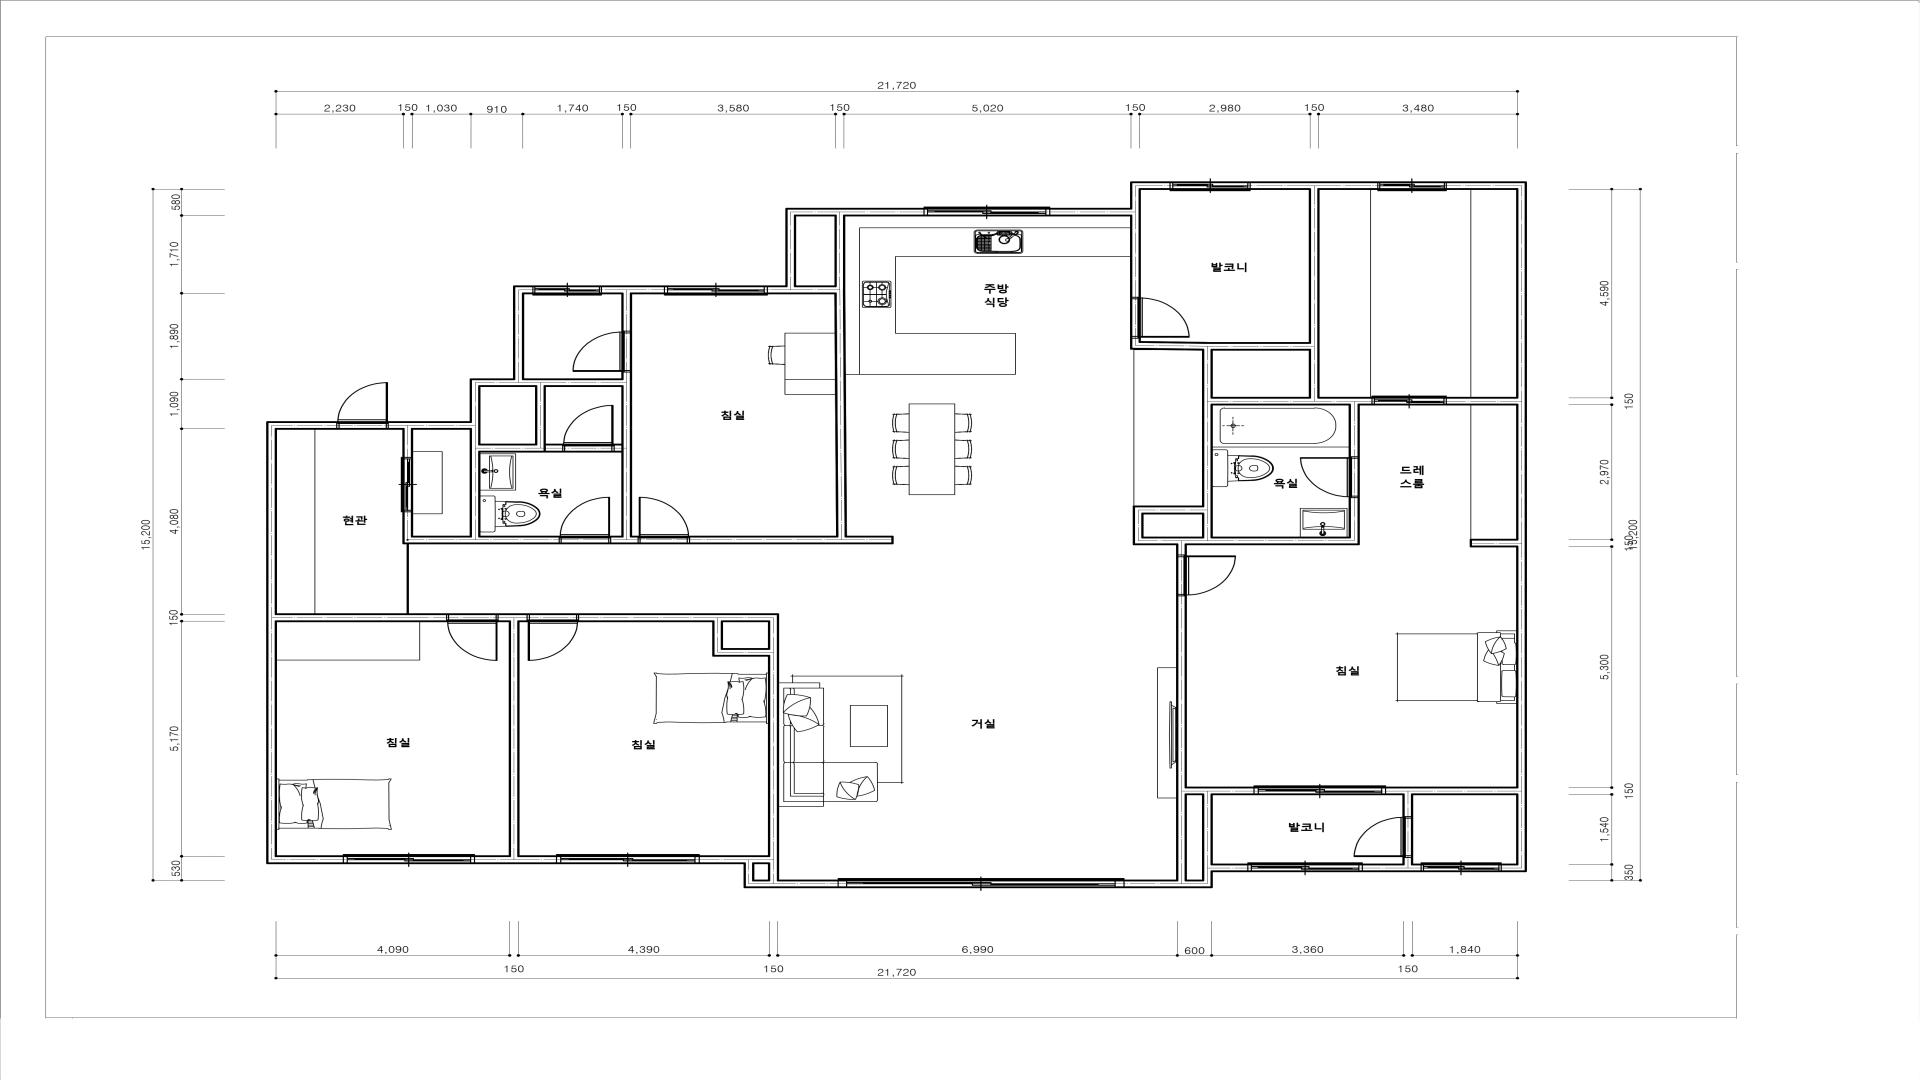door: (1353, 816, 1414, 857), (336, 382, 388, 430), (559, 497, 611, 545), (638, 497, 690, 545), (572, 331, 632, 372), (1130, 297, 1189, 338), (1176, 555, 1236, 596), (563, 405, 613, 452), (447, 613, 497, 661), (527, 613, 578, 661), (1300, 458, 1360, 497), (1373, 396, 1445, 405), (401, 458, 413, 512)
wall: (1516, 190, 1527, 864), (266, 430, 277, 856), (835, 216, 847, 535), (767, 622, 779, 880), (1176, 595, 1187, 880), (509, 622, 520, 856), (1308, 190, 1320, 397), (1201, 351, 1213, 537), (1133, 537, 1349, 546), (690, 535, 894, 545), (578, 613, 779, 622), (621, 372, 632, 535), (277, 613, 447, 622), (1141, 342, 1308, 351), (1213, 397, 1373, 406), (402, 535, 560, 545), (1385, 786, 1516, 795), (469, 430, 480, 535), (513, 294, 525, 388), (786, 208, 924, 216), (1250, 182, 1378, 190), (785, 216, 796, 294), (525, 378, 621, 388), (1130, 216, 1141, 298), (1124, 880, 1213, 889), (1201, 795, 1213, 864), (388, 421, 469, 430), (1447, 181, 1527, 190), (1050, 207, 1130, 216), (754, 880, 839, 887), (473, 856, 556, 864), (266, 421, 336, 430), (266, 856, 344, 864), (535, 388, 546, 444), (601, 285, 665, 294), (1445, 397, 1516, 405), (1349, 405, 1360, 458), (1143, 505, 1201, 514), (1187, 787, 1254, 795), (480, 444, 546, 452), (1349, 497, 1360, 546), (1362, 864, 1422, 872), (469, 386, 480, 430), (699, 856, 754, 864), (1470, 538, 1516, 547), (723, 647, 767, 657), (621, 294, 632, 331), (712, 622, 723, 657), (796, 285, 835, 294), (469, 378, 513, 386), (1133, 505, 1143, 537), (1130, 182, 1171, 190), (402, 430, 413, 458), (1213, 864, 1249, 872), (497, 613, 527, 622), (1130, 190, 1141, 216), (744, 864, 754, 889), (611, 535, 638, 545), (402, 512, 413, 535), (1403, 795, 1414, 818), (1501, 864, 1527, 872), (1201, 864, 1213, 880), (513, 285, 533, 294), (766, 285, 785, 294), (546, 444, 563, 452), (1130, 338, 1141, 349), (1176, 545, 1187, 555), (754, 856, 767, 864), (1402, 857, 1414, 864), (613, 443, 621, 452)
window: (839, 878, 1124, 889), (556, 855, 699, 864), (1254, 786, 1385, 795), (344, 855, 475, 864), (924, 207, 1050, 216), (665, 285, 766, 295), (1249, 862, 1362, 872), (1171, 182, 1250, 191), (1422, 862, 1501, 872), (533, 285, 601, 295), (1378, 182, 1447, 191)
